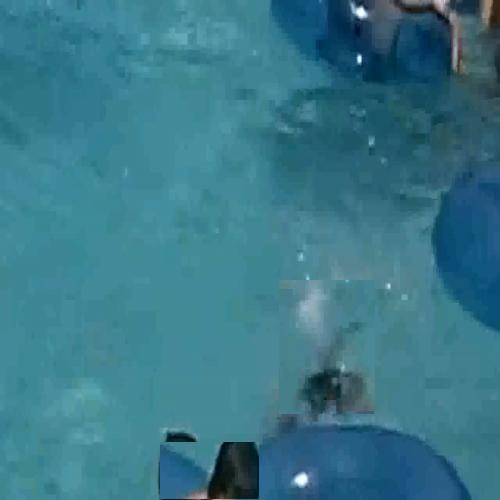drowning: (279, 280, 376, 415)
swimming: (160, 442, 260, 500)
